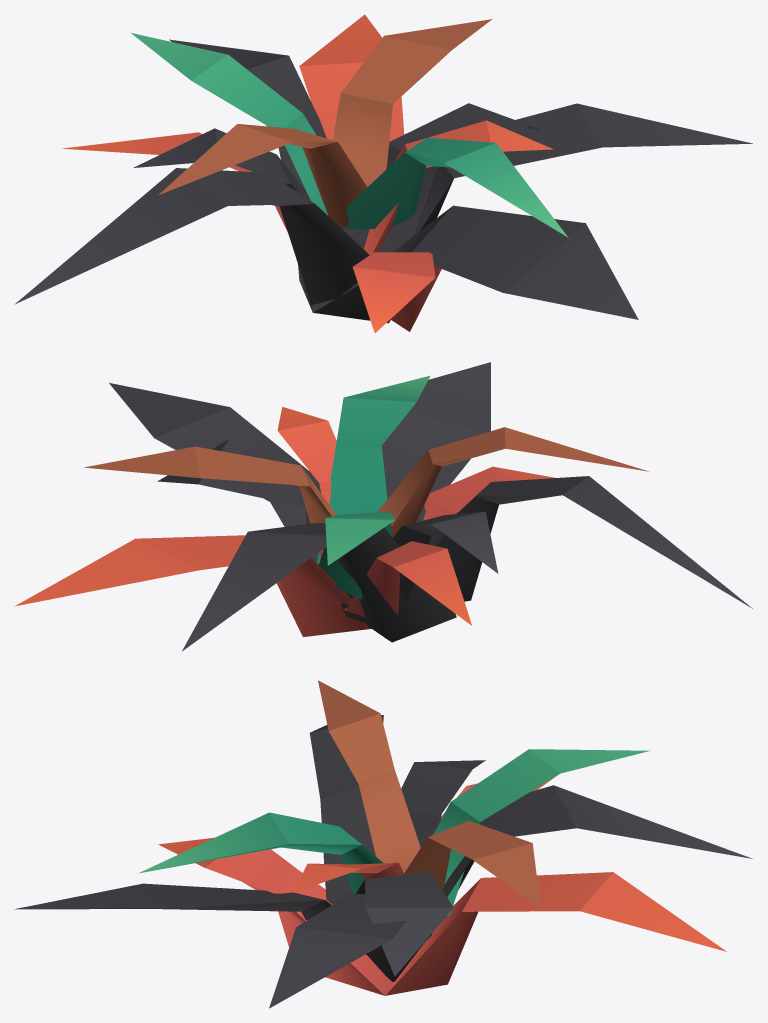
Rendered from RotCrop.glb.
The picture shows the model from 3 angles, top to bottom: view 1: azimuth 30°, elevation 25°; view 2: azimuth 150°, elevation 25°; view 3: azimuth 270°, elevation 25°; orthographic projection. The views are drawn at different scales.
Parts seen in each view (by area): view 1: RotCrop; view 2: RotCrop; view 3: RotCrop.
Boxes of the visible parts, x1,y1,x2,y2 form: RotCrop: (15,14,752,332); RotCrop: (14,362,752,651); RotCrop: (14,680,752,1008).
Bounding box in the file's own units: 1.86 × 0.5449 × 1.81.
Materials: 1 (1 with a texture image).
